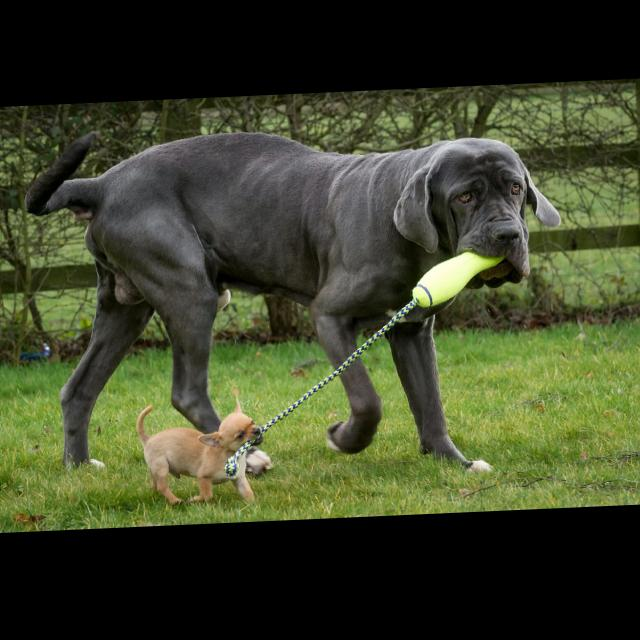mastino_napoletano: (26, 116, 563, 497)
other_dog_breed: (137, 398, 274, 511)
